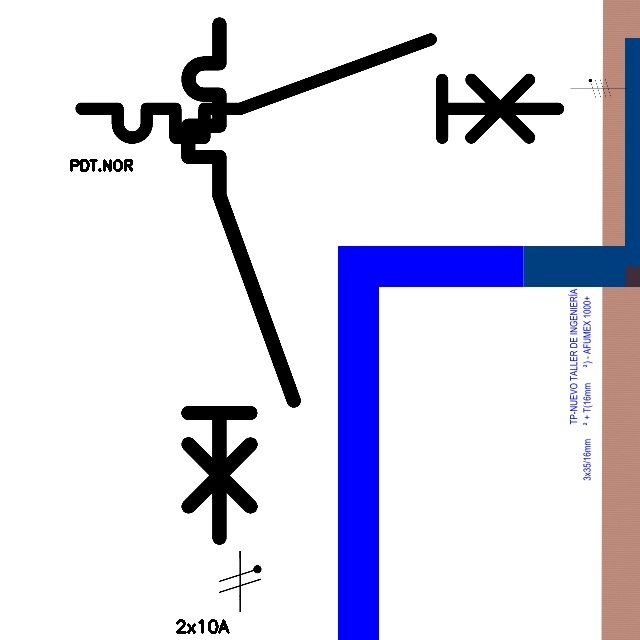interruptor_termomagnetico: (175, 11, 307, 551), (69, 27, 570, 150)
